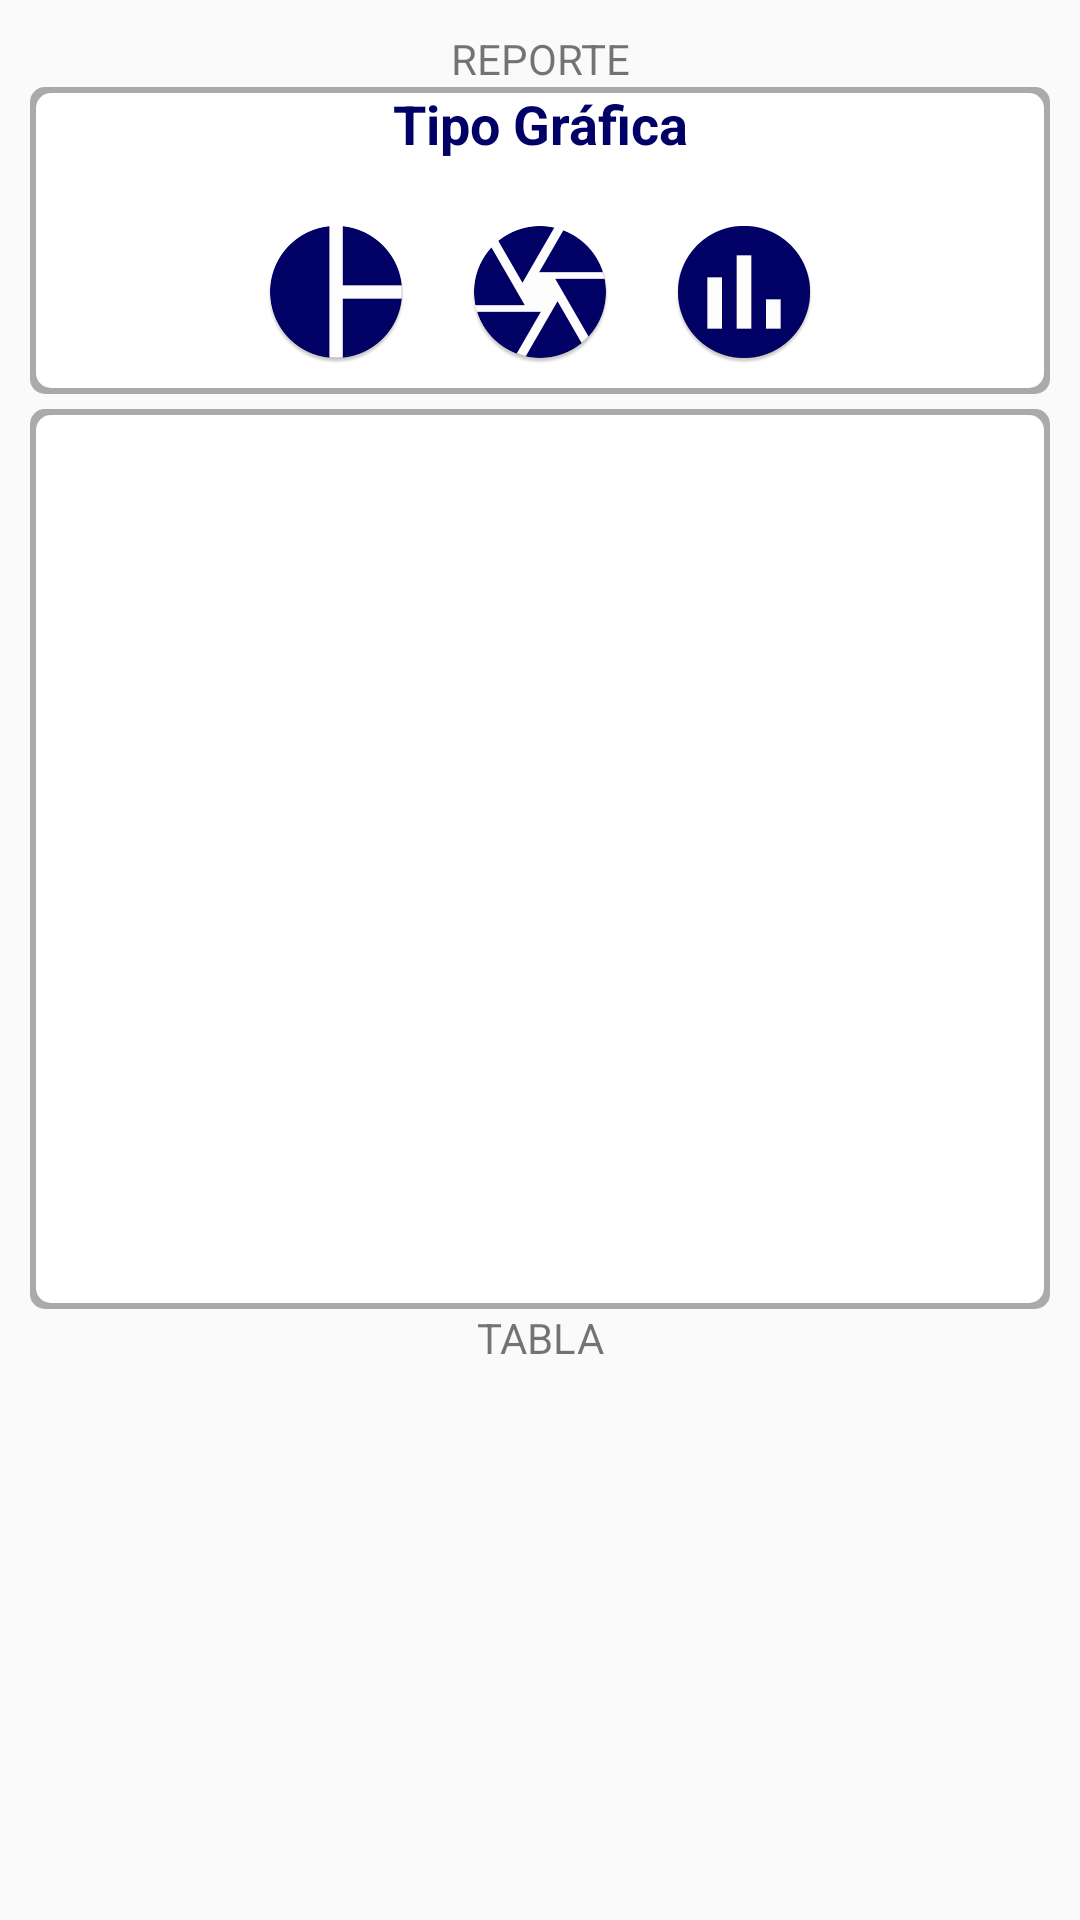

Locate icon controls on the screen. Image size 1080px×1920px, boxes as (x1, y1, x2, y2).
bar: (678, 226, 811, 361)
pie: (270, 226, 403, 361)
